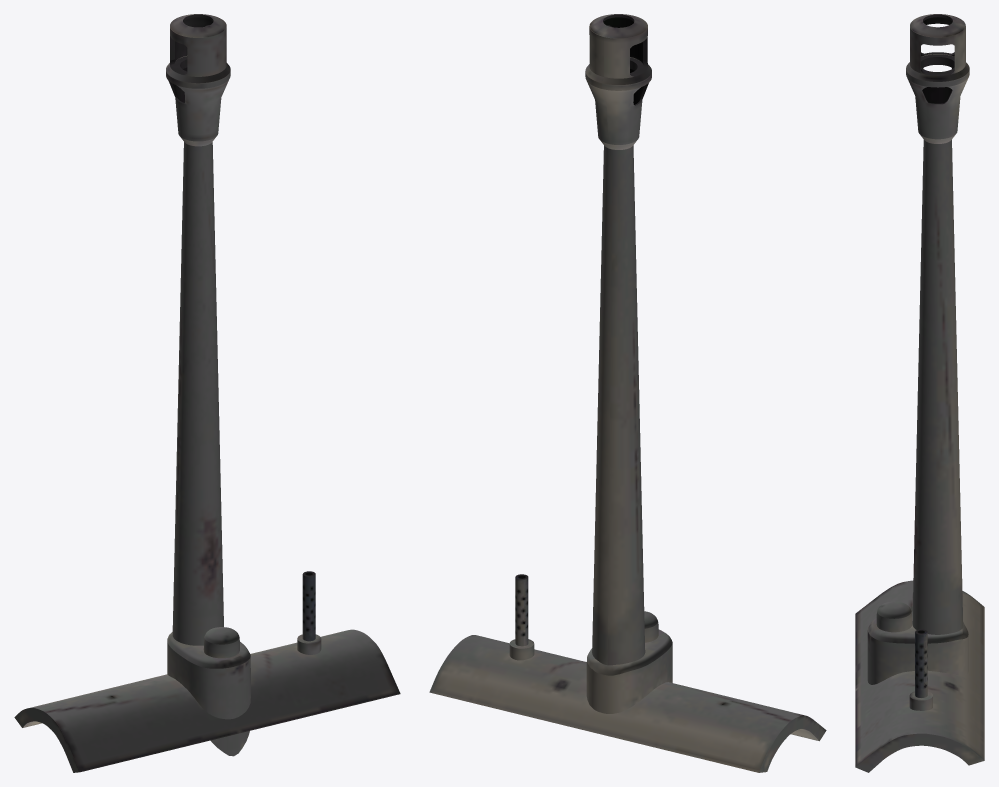
The model's file is Gun_12.glb.
The picture shows the model from 3 angles, left to right: view 1: azimuth 30°, elevation 25°; view 2: azimuth 150°, elevation 25°; view 3: azimuth 270°, elevation 25°; orthographic projection. The views are drawn at different scales.
Visible parts, largest first — view 1: set_0_group_0; view 2: set_0_group_0; view 3: set_0_group_0.
Boxes of the visible parts, x1,y1,x2,y2 form: set_0_group_0: (14, 14, 400, 772); set_0_group_0: (429, 14, 826, 772); set_0_group_0: (855, 14, 984, 772).
Bounding box in the file's own units: 0.9283 × 1.96 × 0.3303.
Materials: 1 (1 with a texture image).
